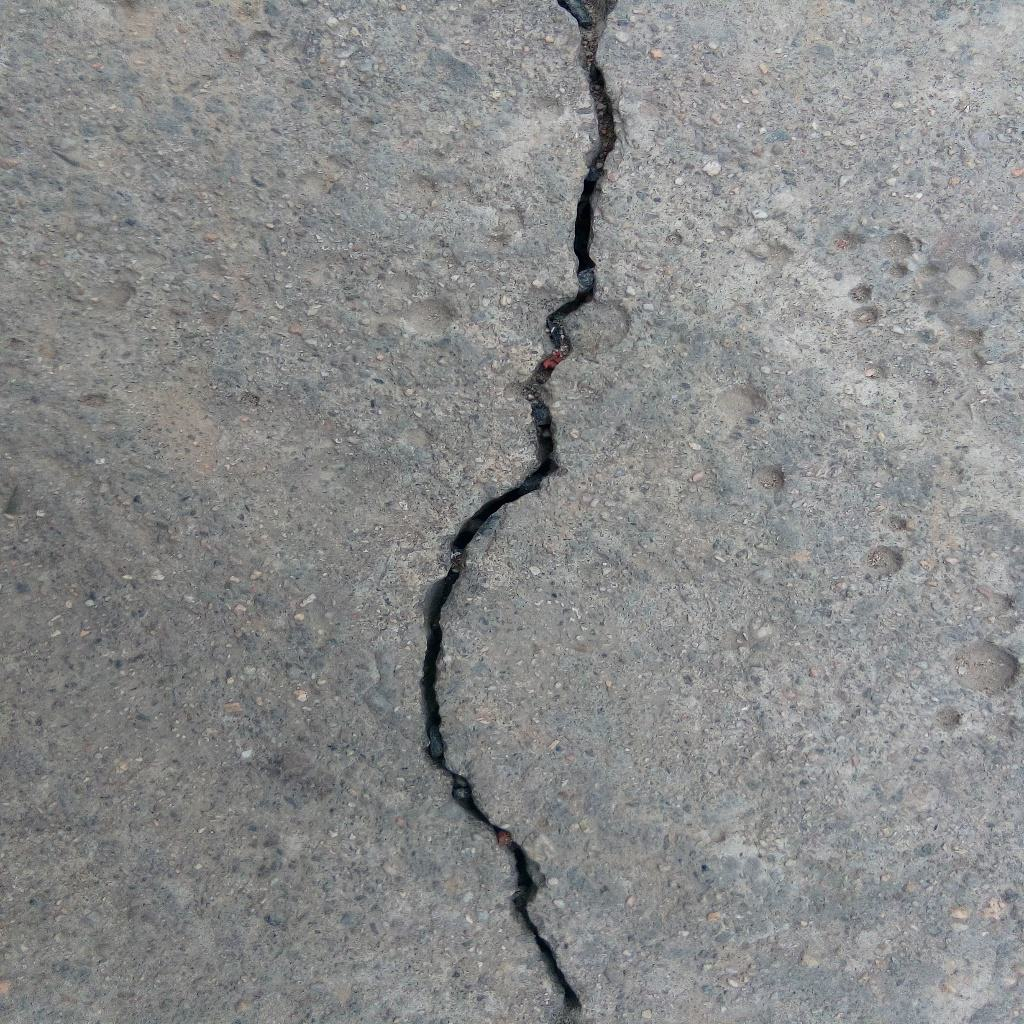Crack: (419, 1, 622, 1024)
